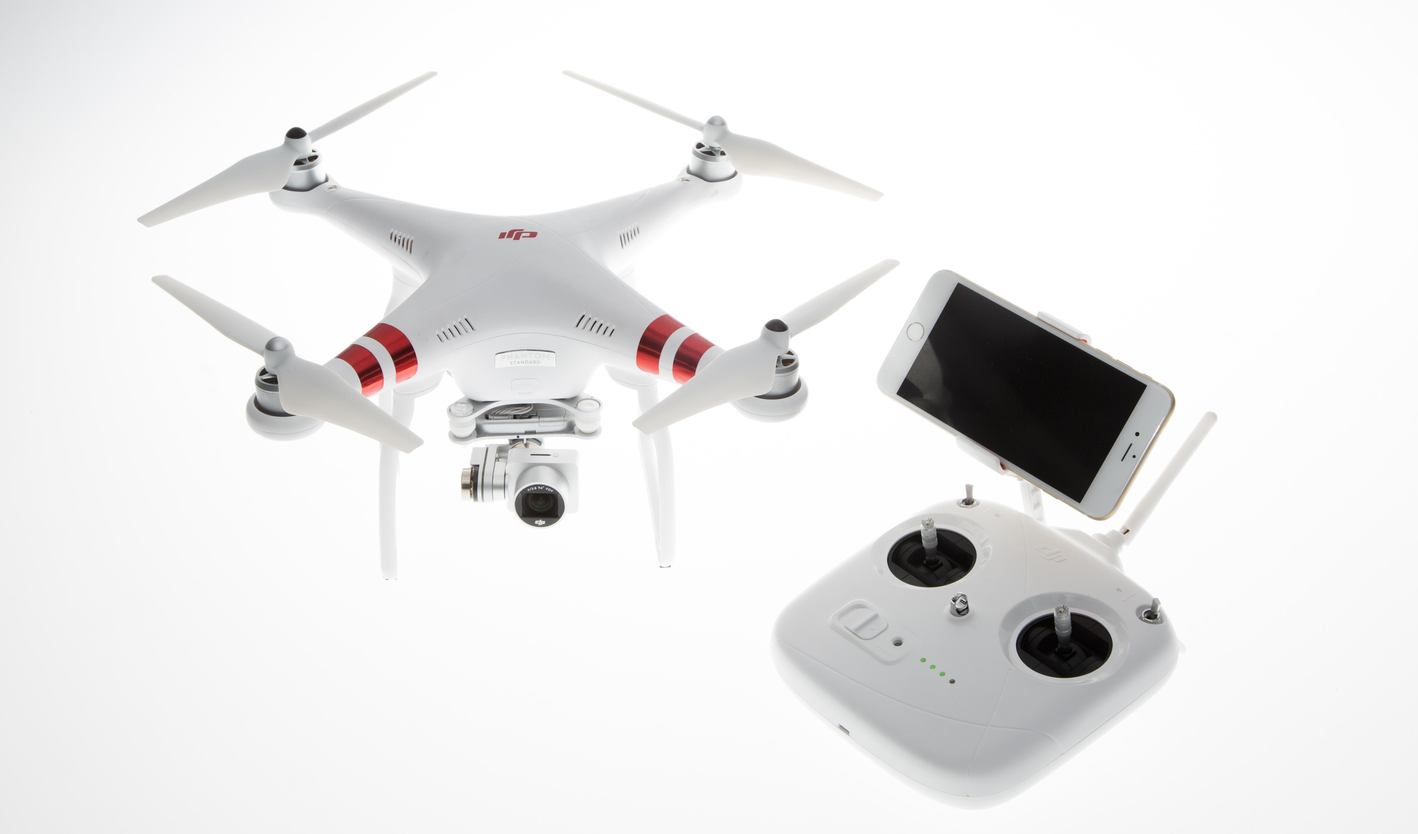aircraft: (126, 61, 1312, 746), (141, 61, 897, 564)
